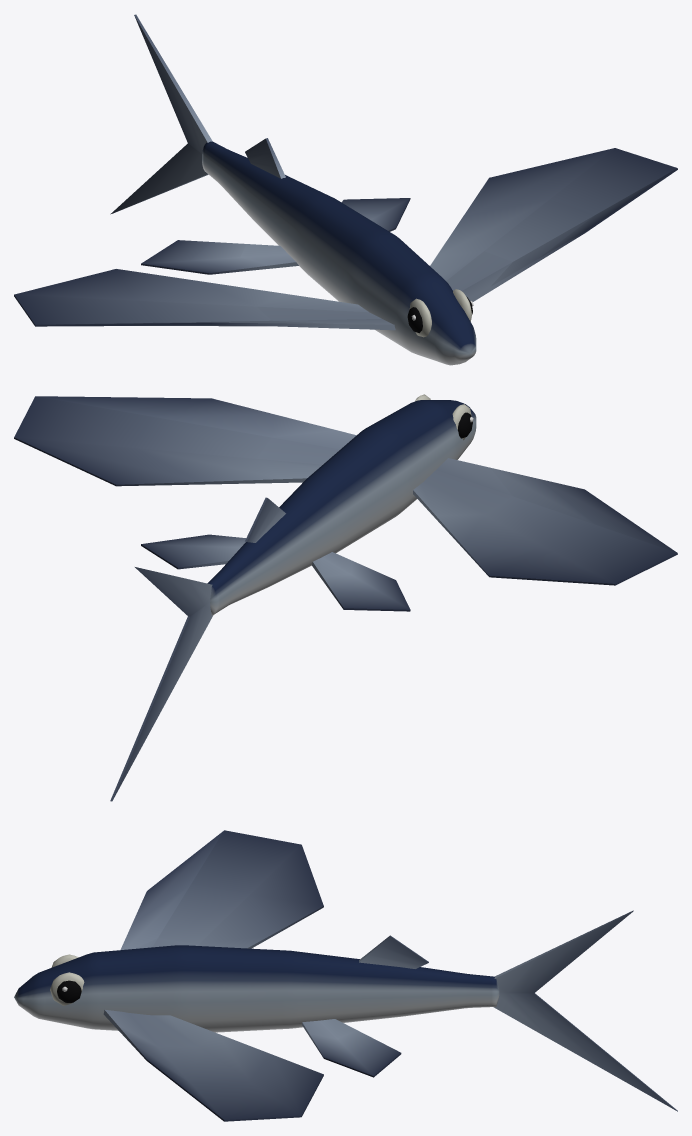
Rendered from Thoracopterus.fbx.
3 renders of one model, top to bottom at view 1: azimuth 30°, elevation 25°; view 2: azimuth 150°, elevation 25°; view 3: azimuth 270°, elevation 25°, orthographic. The views are drawn at different scales.
Parts seen in each view (by area): view 1: Thoracopterus; view 2: Thoracopterus; view 3: Thoracopterus.
Boxes of the visible parts, <box> form: Thoracopterus: <box>14,14,677,365</box>; Thoracopterus: <box>14,394,677,801</box>; Thoracopterus: <box>14,830,677,1121</box>.
Size of the model in its own units: 1.24 by 0.4 by 1.2.
